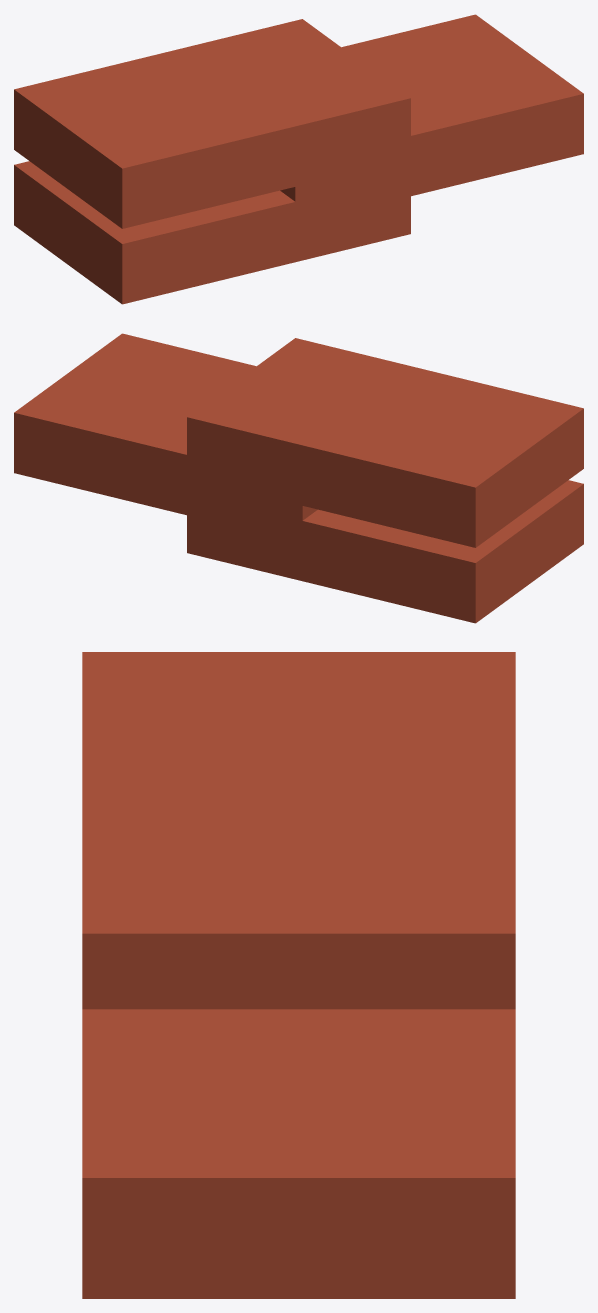
Rendered from set_brick_pile.glb.
3 renders of one model, top to bottom at view 1: azimuth 30°, elevation 25°; view 2: azimuth 150°, elevation 25°; view 3: azimuth 270°, elevation 25°, orthographic. The views are drawn at different scales.
Visible parts, largest first — view 1: set_brick_pile; view 2: set_brick_pile; view 3: set_brick_pile.
Part boxes in pixels (x1,y1,x2,y2): set_brick_pile: (14, 14, 583, 304); set_brick_pile: (14, 333, 583, 623); set_brick_pile: (82, 652, 515, 1298).
Size of the model in its own units: 0.32 by 0.09 by 0.13.
